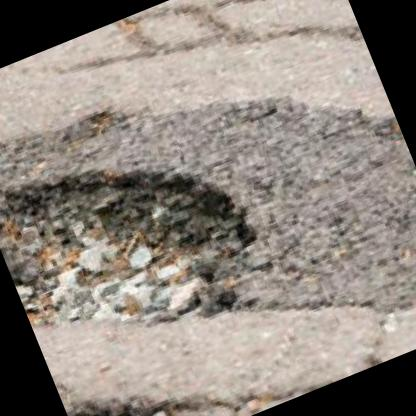pothole: (0, 103, 283, 382), (64, 374, 166, 416)
